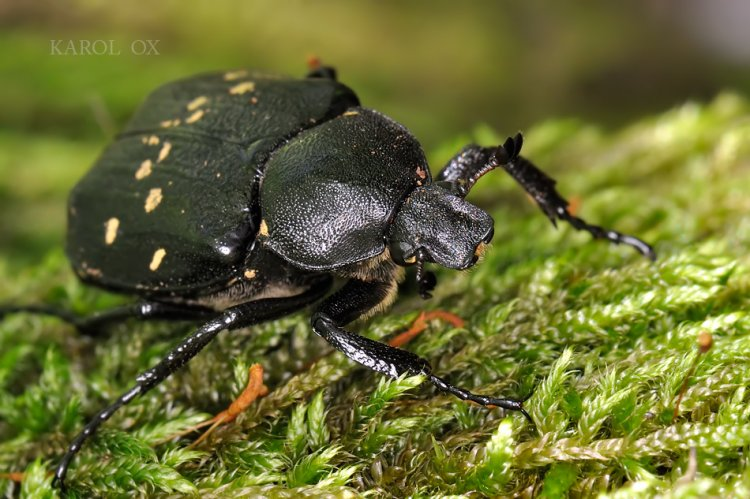Gnorimus_variabilis: (25, 54, 664, 436)
